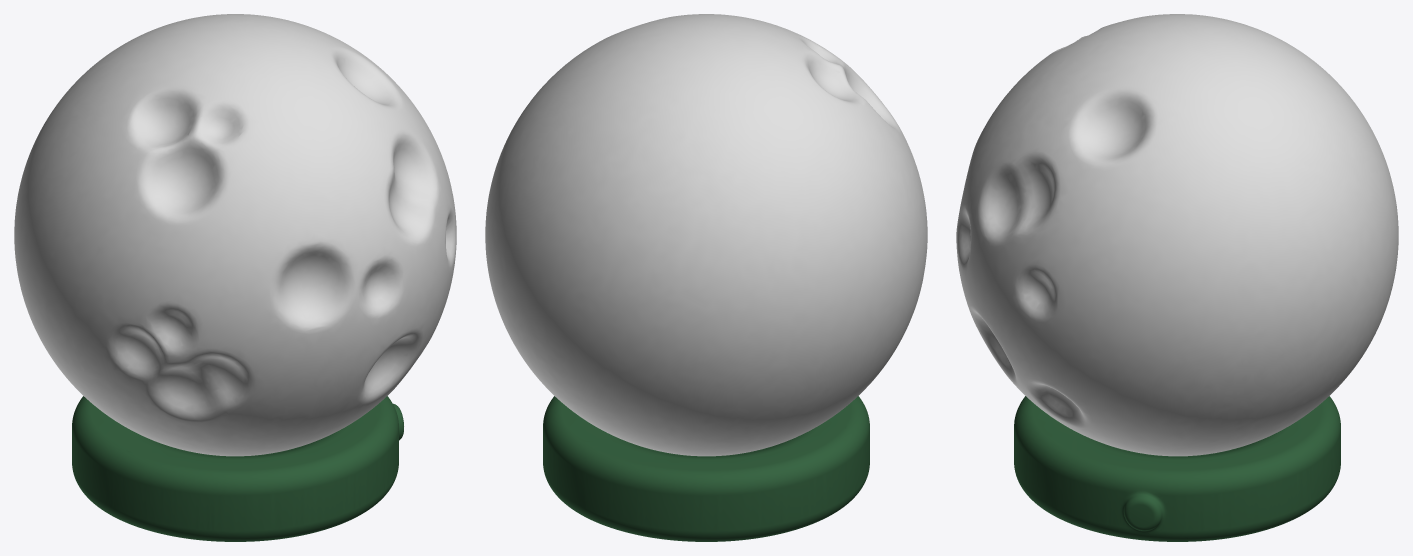
Rendered from night-shift.glb.
3 views of the same model, side by side, from view 1: azimuth 30°, elevation 25°; view 2: azimuth 150°, elevation 25°; view 3: azimuth 270°, elevation 25° (orthographic).
Parts seen in each view (by area): view 1: ns-moon, ns-base; view 2: ns-moon, ns-base; view 3: ns-moon, ns-base.
Part boxes in pixels (box(x1,y1,x2,y2)): ns-moon: box(14, 14, 456, 456); ns-base: box(72, 396, 403, 541); ns-moon: box(485, 14, 927, 456); ns-base: box(543, 396, 869, 541); ns-moon: box(956, 14, 1398, 456); ns-base: box(1014, 396, 1340, 541).
Size of the model in its own units: 0.092 by 0.102 by 0.092.
